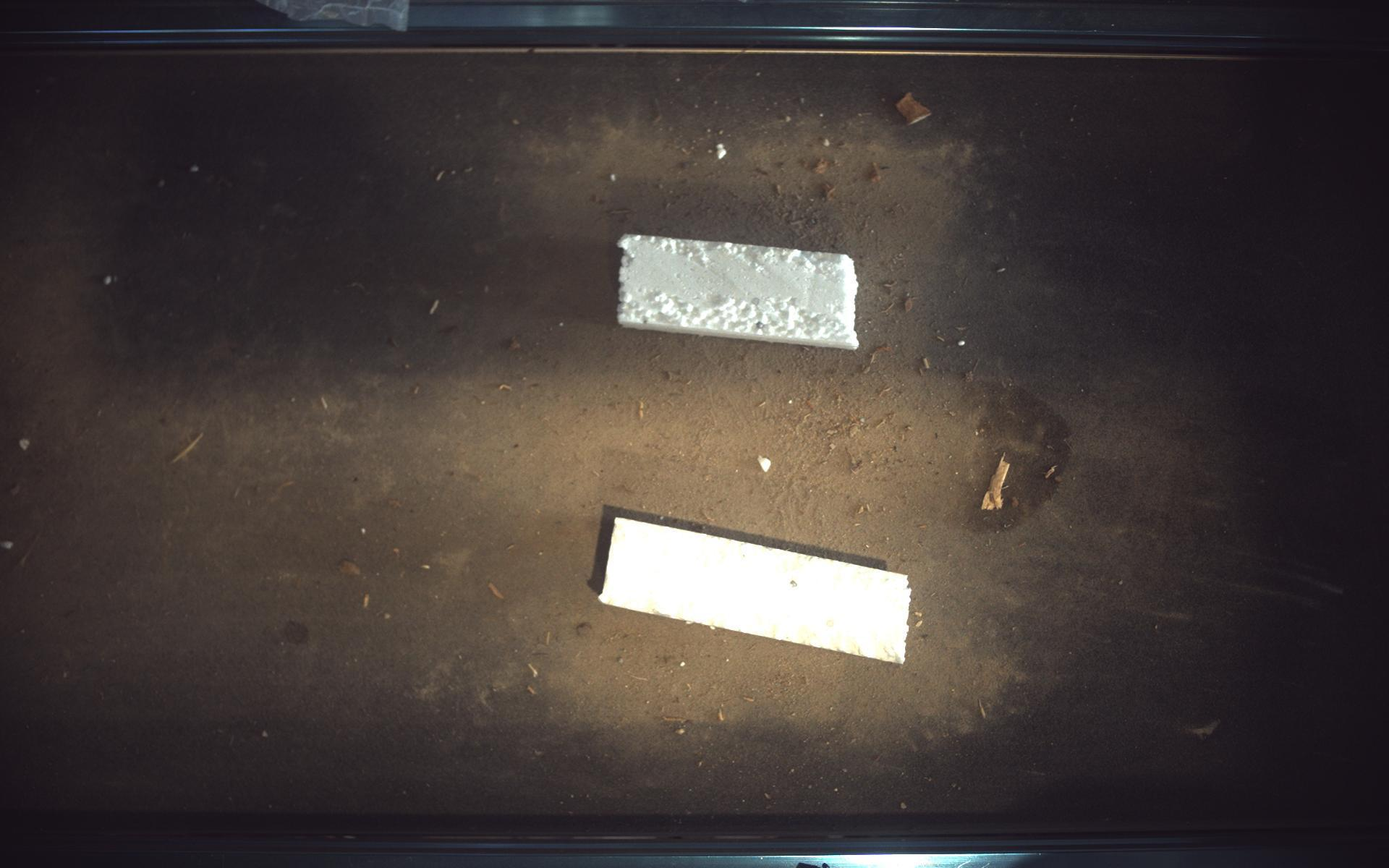foam: (600, 517, 912, 665), (619, 234, 861, 349)
